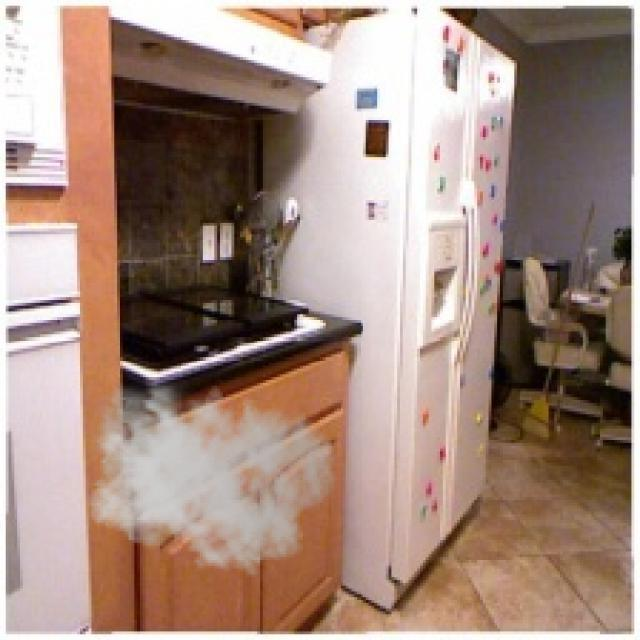Smoke: (80, 372, 337, 577)
